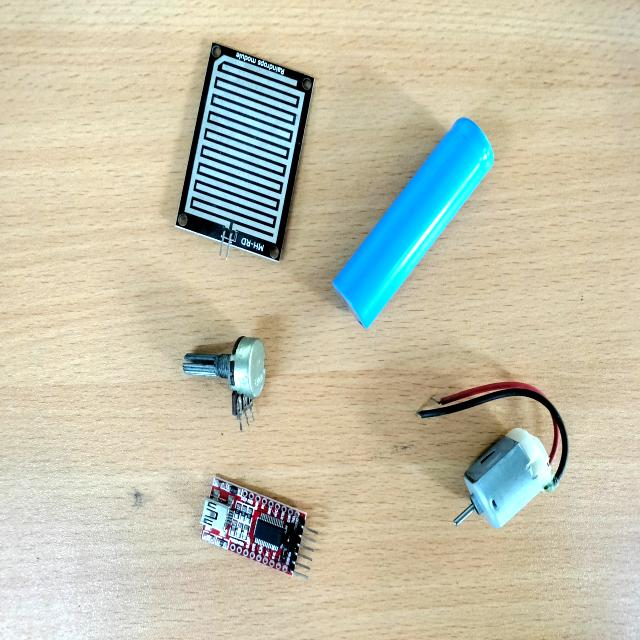3-3-Volt-Battery: (326, 105, 504, 338)
DC-Motor: (449, 422, 557, 536)
FT-232-USB-Serial-Module: (191, 465, 322, 591)
Raindrops-Module: (172, 31, 315, 267)
Taper-Potentiometer: (177, 328, 270, 438)
